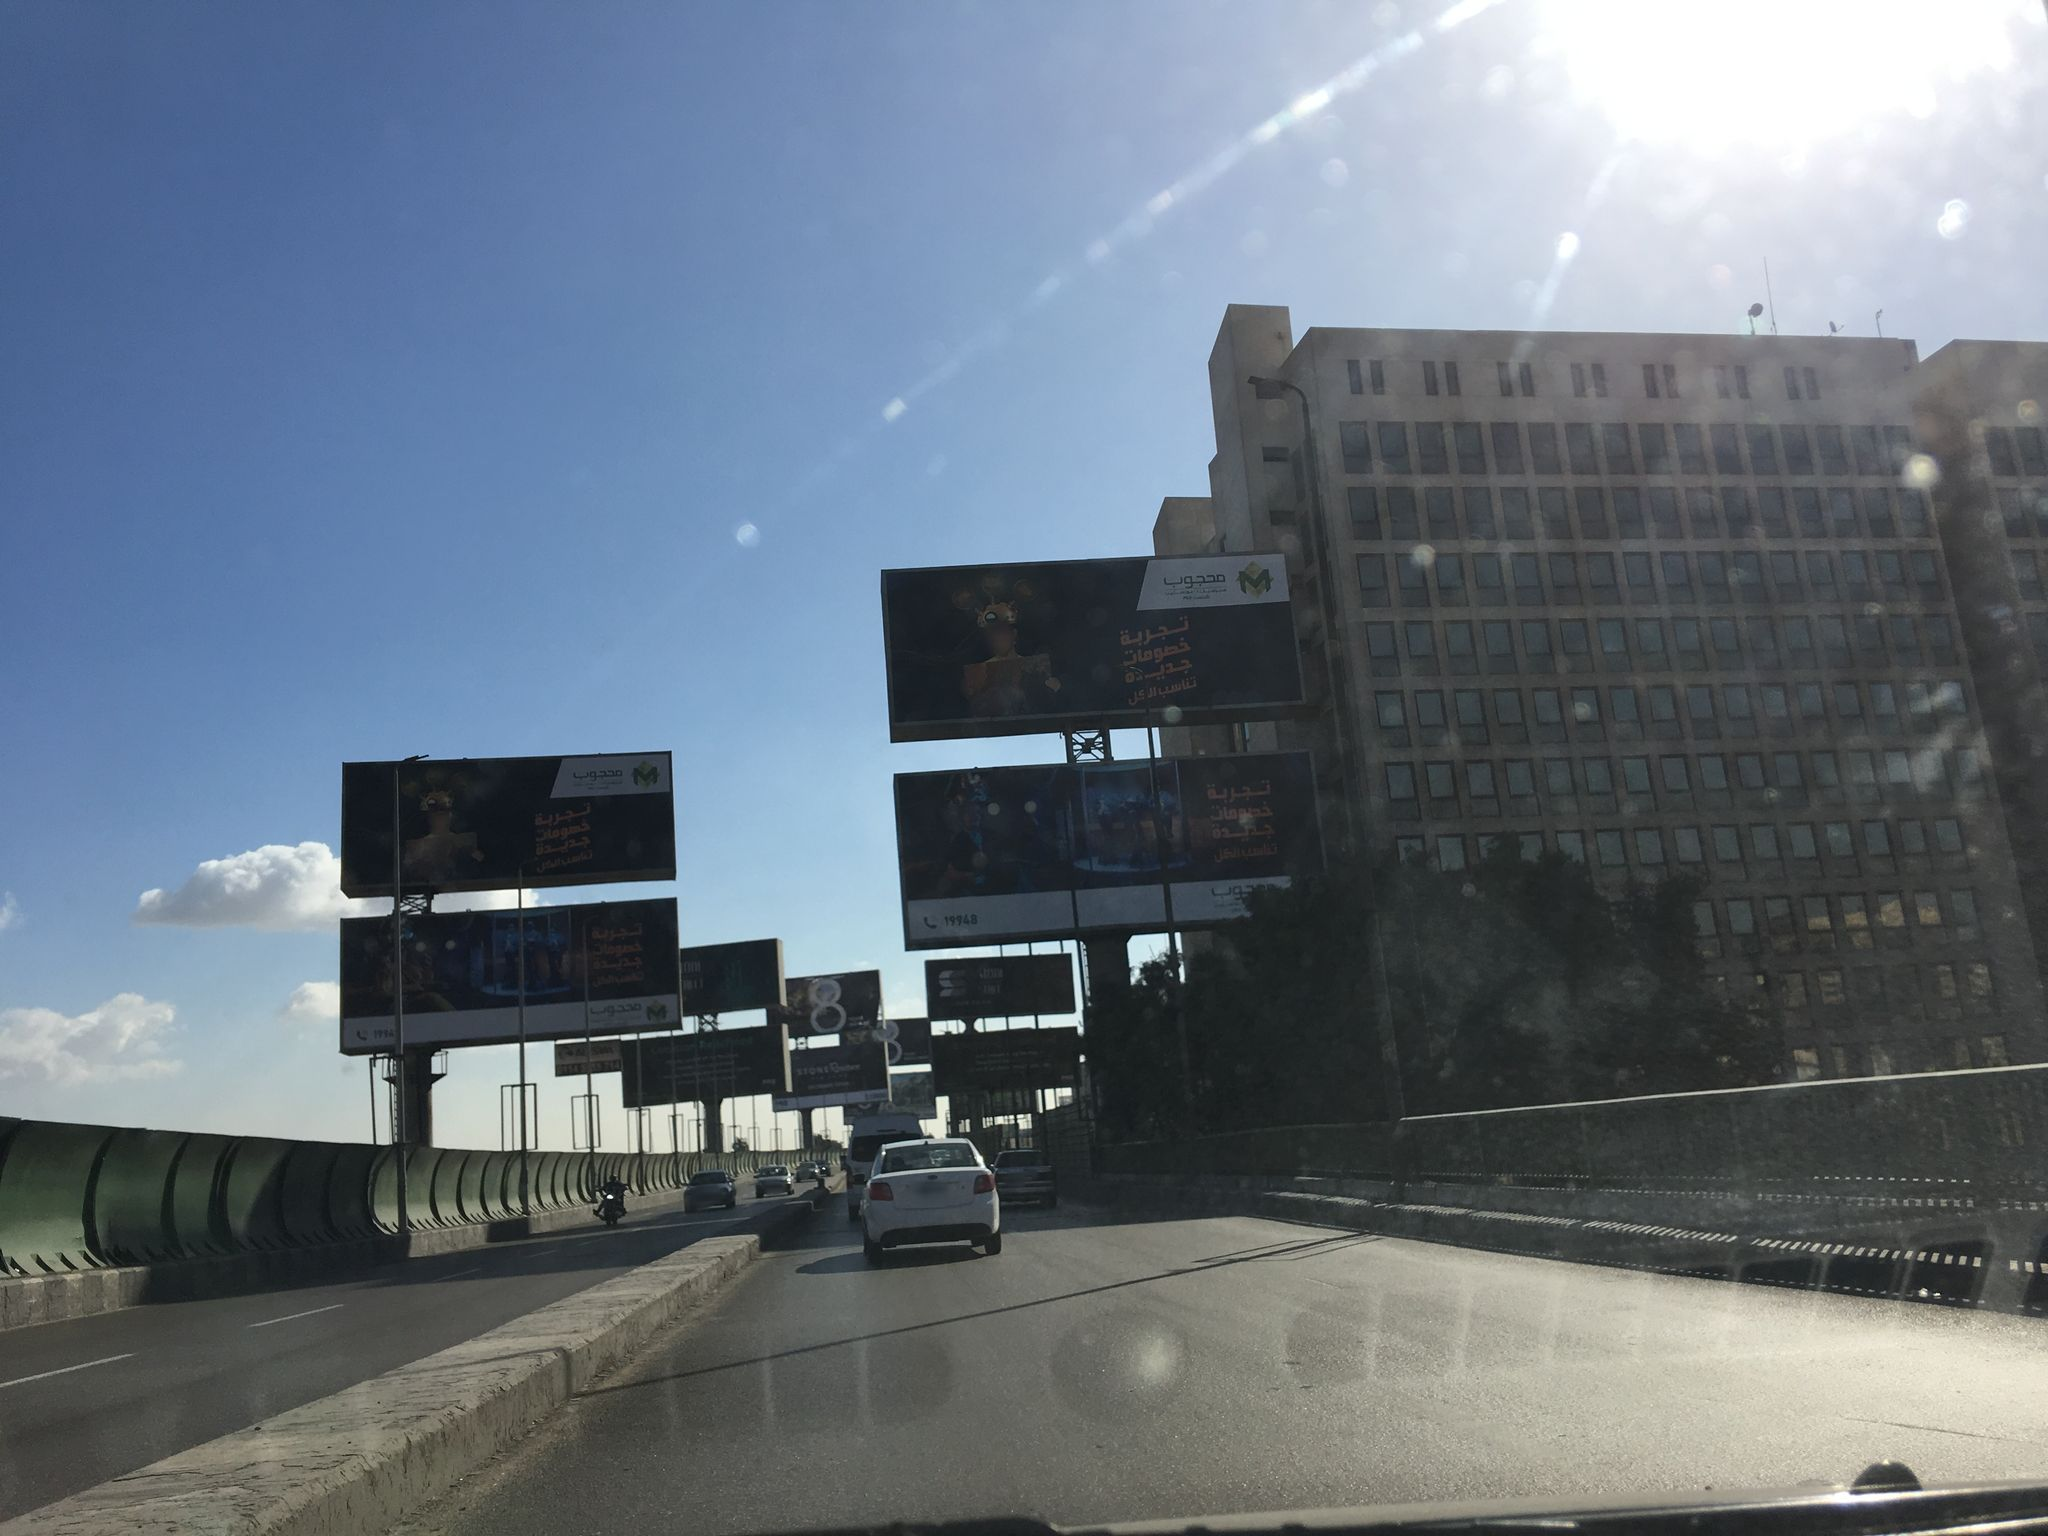car: (856, 1136, 1001, 1265), (843, 1112, 926, 1223), (989, 1147, 1056, 1205), (681, 1170, 735, 1208), (751, 1163, 793, 1197), (795, 1162, 819, 1181), (814, 1158, 830, 1176)
motorcycle: (590, 1183, 627, 1226)
